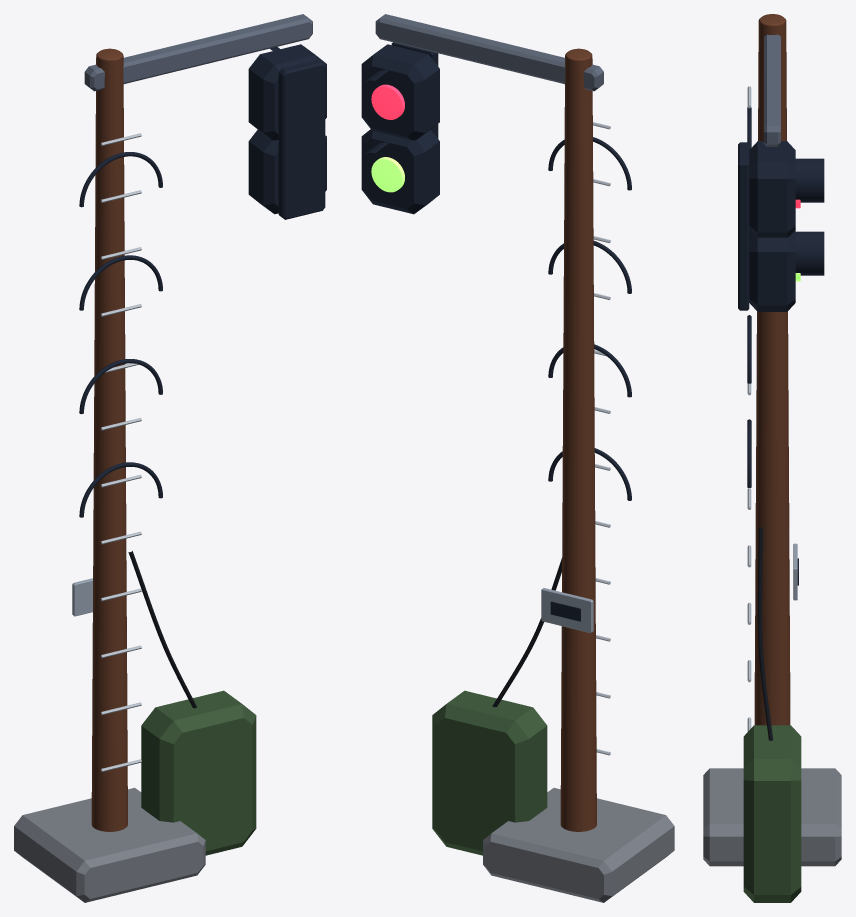
File: switchyard_dress_signaltower.glb
3 views of the same model, side by side, from view 1: azimuth 30°, elevation 25°; view 2: azimuth 150°, elevation 25°; view 3: azimuth 270°, elevation 25° (orthographic).
Visible parts, largest first — view 1: sig_mast, sig_cabinet, sig_base, sig_head_back, sig_arm, sig_head7, sig_head6.3, sig_cable, sig_plate, sig_hoop0, sig_hoop2, sig_hoop3 (+1 smaller); view 2: sig_mast, sig_cabinet, sig_base, sig_arm, sig_head7, sig_head6.3, sig_plate, sig_lamp6.3, sig_lamp7; view 3: sig_mast, sig_cabinet, sig_base, sig_head7, sig_head6.3, sig_head_back, sig_arm, sig_hood7, sig_hood6.3, sig_cable, sig_hoop0, sig_hoop1.
Boxes of the visible parts, bbox=[...] form: sig_mast: bbox=[91, 48, 127, 831]; sig_cabinet: bbox=[141, 690, 256, 855]; sig_base: bbox=[14, 787, 205, 902]; sig_head_back: bbox=[278, 59, 325, 219]; sig_arm: bbox=[84, 14, 312, 91]; sig_head7: bbox=[248, 44, 326, 140]; sig_head6.3: bbox=[248, 130, 326, 214]; sig_cable: bbox=[128, 551, 196, 708]; sig_plate: bbox=[72, 578, 92, 616]; sig_hoop0: bbox=[79, 462, 162, 517]; sig_hoop2: bbox=[79, 255, 162, 310]; sig_hoop3: bbox=[79, 152, 162, 207]; sig_mast: bbox=[560, 48, 596, 831]; sig_cabinet: bbox=[432, 690, 547, 855]; sig_base: bbox=[483, 788, 674, 902]; sig_arm: bbox=[375, 14, 603, 91]; sig_head7: bbox=[361, 44, 439, 140]; sig_head6.3: bbox=[361, 129, 439, 214]; sig_plate: bbox=[541, 588, 593, 632]; sig_lamp6.3: bbox=[371, 157, 404, 192]; sig_lamp7: bbox=[371, 84, 404, 119]; sig_mast: bbox=[754, 14, 790, 725]; sig_cabinet: bbox=[743, 725, 801, 902]; sig_base: bbox=[703, 768, 841, 866]; sig_head7: bbox=[749, 141, 795, 237]; sig_head6.3: bbox=[749, 230, 795, 311]; sig_head_back: bbox=[738, 142, 749, 310]; sig_arm: bbox=[764, 34, 780, 146]; sig_hood7: bbox=[795, 158, 824, 202]; sig_hood6.3: bbox=[795, 231, 824, 275]; sig_cable: bbox=[757, 527, 773, 740]; sig_hoop0: bbox=[747, 419, 751, 487]; sig_hoop1: bbox=[747, 315, 751, 383].
Size of the model in its own units: 2.78 by 7.89 by 1.2.
